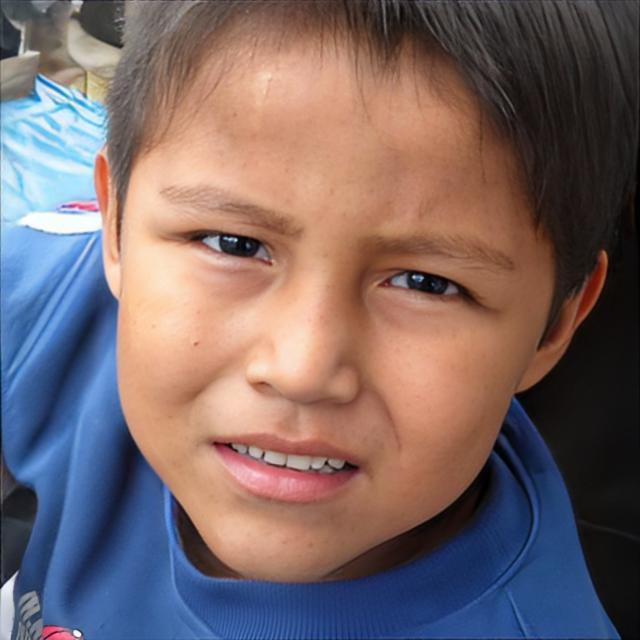disgust: (115, 2, 558, 583)
